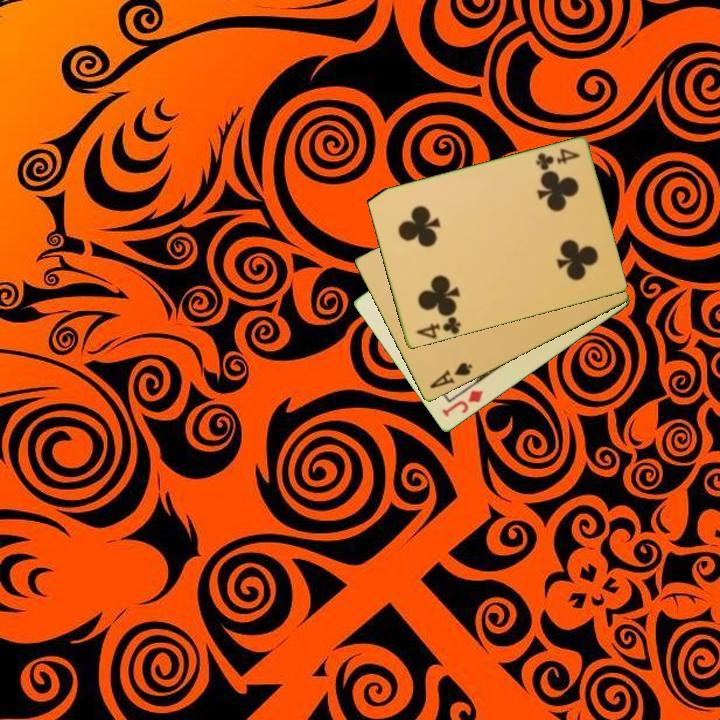4c: (412, 313, 464, 342), (532, 145, 583, 173)
As: (426, 359, 475, 392)
Jd: (438, 387, 486, 420)
